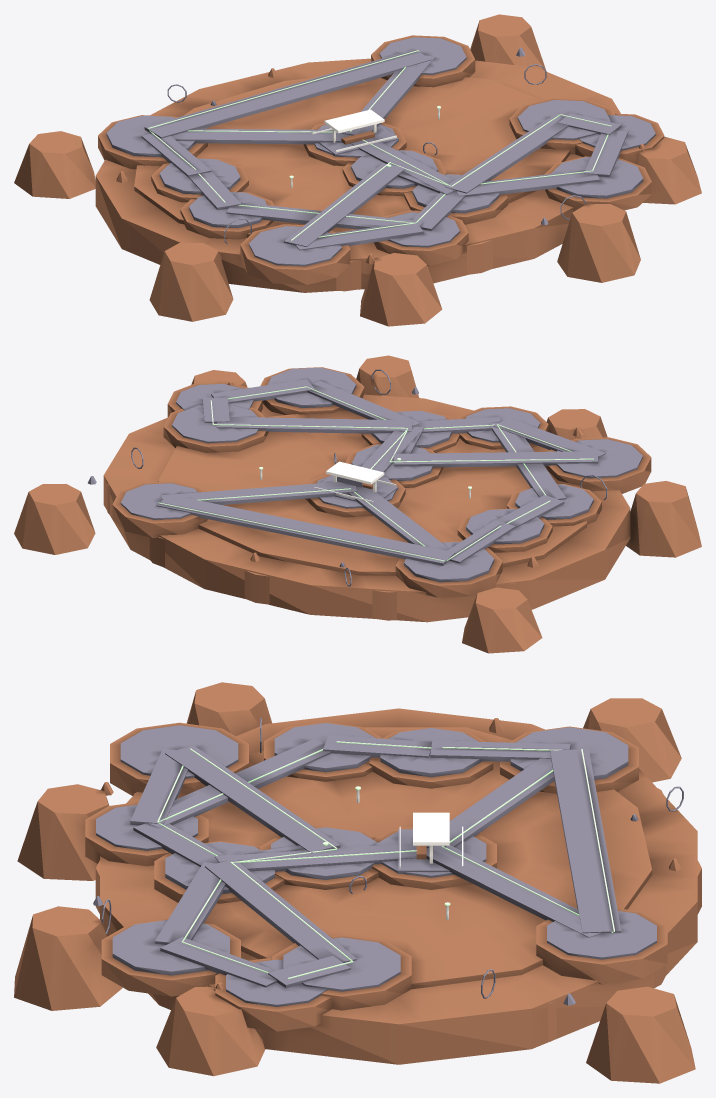
Rendered from terrain.glb.
3 views of the same model, one above another, from view 1: azimuth 30°, elevation 25°; view 2: azimuth 150°, elevation 25°; view 3: azimuth 270°, elevation 25° (orthographic). The views are drawn at different scales.
Visible parts, largest first — view 1: terrain:near:surface:0, terrain:near:surface:1, terrain:near:surface:3, terrain:far:surface:0, terrain:near:surface:2; view 2: terrain:near:surface:0, terrain:near:surface:1, terrain:near:surface:3, terrain:far:surface:0, terrain:near:surface:2; view 3: terrain:near:surface:0, terrain:near:surface:1, terrain:near:surface:3, terrain:near:surface:2, terrain:far:surface:0.
Boxes of the visible parts, x1,y1,x2,y2 form: terrain:near:surface:0: (14, 14, 701, 326); terrain:near:surface:1: (106, 37, 655, 266); terrain:near:surface:3: (148, 50, 611, 240); terrain:far:surface:0: (219, 239, 492, 291); terrain:near:surface:2: (290, 108, 439, 188); terrain:near:surface:0: (14, 355, 701, 653); terrain:near:surface:1: (88, 367, 642, 586); terrain:near:surface:3: (158, 386, 593, 561); terrain:far:surface:0: (107, 484, 516, 620); terrain:near:surface:2: (260, 460, 470, 502); terrain:near:surface:0: (14, 682, 697, 1083); terrain:near:surface:1: (93, 717, 683, 1006); terrain:near:surface:3: (157, 741, 614, 979); terrain:near:surface:2: (324, 789, 463, 919); terrain:far:surface:0: (95, 788, 701, 1041).
Bounding box in the file's own units: 102 × 12.42 × 84.68.
